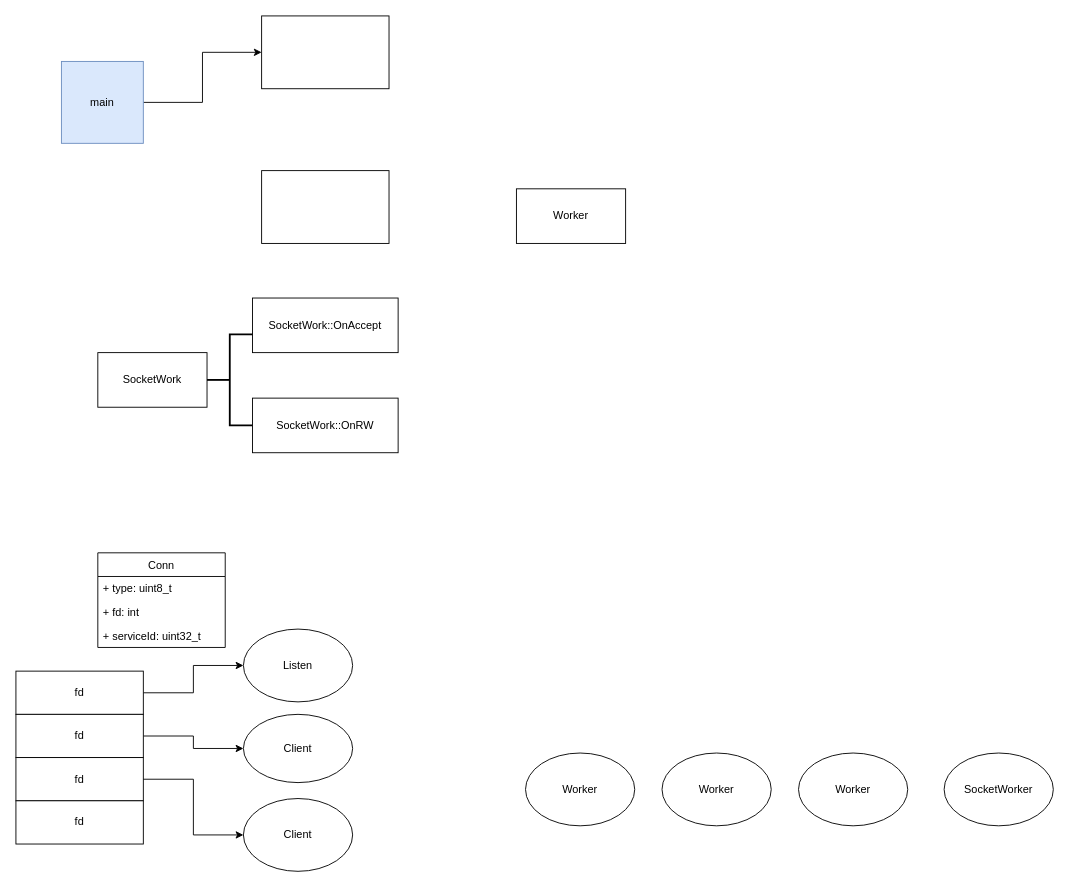
This 1069x887 diagram has some shape labels left out. Here are the shapes that lost their labels. From the top down, the centre of each, then its label:
At point (325, 52): "start".
At point (325, 206): "Wait".
